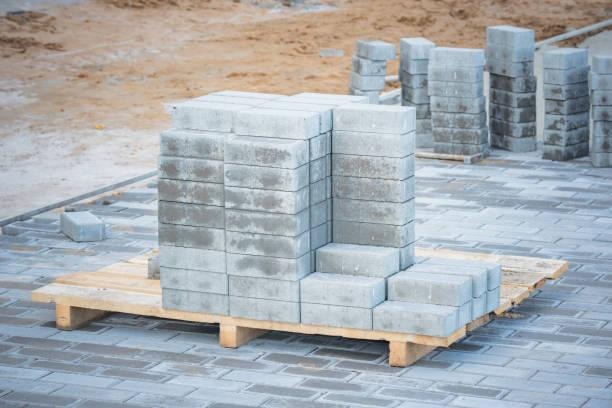Bricks: (410, 259, 490, 282), (224, 255, 299, 279), (300, 279, 369, 305), (225, 141, 300, 164), (227, 188, 295, 213), (228, 278, 297, 302), (233, 298, 298, 323), (158, 132, 218, 159), (388, 278, 447, 305), (159, 248, 228, 271), (320, 253, 388, 276), (160, 270, 228, 293), (333, 179, 404, 201), (304, 306, 374, 328), (230, 213, 295, 236), (164, 205, 225, 229), (328, 203, 403, 222), (225, 232, 294, 252), (158, 184, 223, 205), (378, 312, 443, 333), (332, 137, 400, 157), (231, 167, 295, 188), (174, 107, 232, 130), (157, 290, 220, 311), (333, 228, 404, 246), (336, 113, 403, 132), (237, 115, 299, 135), (334, 160, 405, 177), (162, 228, 228, 246), (393, 269, 472, 284), (240, 107, 314, 122), (333, 100, 409, 114), (428, 64, 484, 82), (320, 238, 396, 251), (160, 165, 225, 180), (181, 99, 250, 113), (486, 45, 536, 64), (487, 26, 532, 46), (436, 47, 481, 65), (431, 84, 484, 99), (433, 114, 484, 128), (489, 92, 536, 107), (489, 106, 536, 121), (432, 99, 486, 112), (547, 50, 585, 68), (300, 115, 326, 141), (490, 120, 535, 135), (442, 305, 463, 336), (543, 101, 593, 114), (491, 76, 531, 91), (439, 128, 489, 140), (497, 136, 537, 150), (357, 41, 392, 57), (440, 143, 486, 155), (546, 146, 586, 159), (549, 70, 586, 84), (546, 86, 587, 98), (399, 238, 414, 269), (492, 62, 533, 73), (455, 282, 472, 308), (545, 135, 589, 145), (353, 76, 384, 90), (313, 200, 331, 224), (402, 105, 419, 130), (485, 266, 504, 288), (398, 131, 414, 157), (590, 72, 612, 90), (403, 88, 429, 103), (403, 175, 417, 202), (371, 279, 386, 304), (356, 61, 387, 73), (547, 118, 588, 127), (401, 40, 427, 54), (401, 58, 427, 71), (477, 296, 491, 319), (475, 276, 490, 297), (401, 73, 427, 85), (402, 155, 416, 176), (314, 229, 330, 247), (297, 209, 310, 231), (295, 235, 309, 255), (405, 198, 416, 223), (402, 223, 415, 244), (297, 141, 310, 162), (313, 181, 327, 200), (298, 252, 312, 271), (596, 53, 612, 69), (296, 190, 311, 207), (388, 251, 398, 276), (461, 301, 473, 321), (596, 105, 612, 120), (312, 160, 326, 176), (313, 141, 326, 158), (488, 289, 498, 310), (591, 92, 612, 102), (595, 135, 612, 147), (297, 171, 311, 185), (596, 123, 612, 135), (593, 153, 612, 162)
